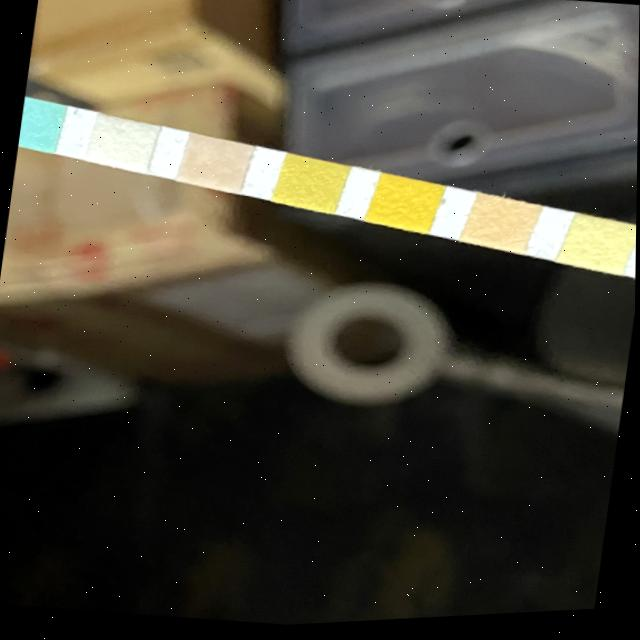Bilirubin: (89, 118, 154, 169)
Blood: (372, 180, 437, 233)
Glucose: (17, 100, 60, 147)
Ketone: (180, 138, 248, 190)
Protein: (568, 223, 630, 276)
SpGravity: (279, 159, 341, 213)
pH: (469, 201, 532, 255)
